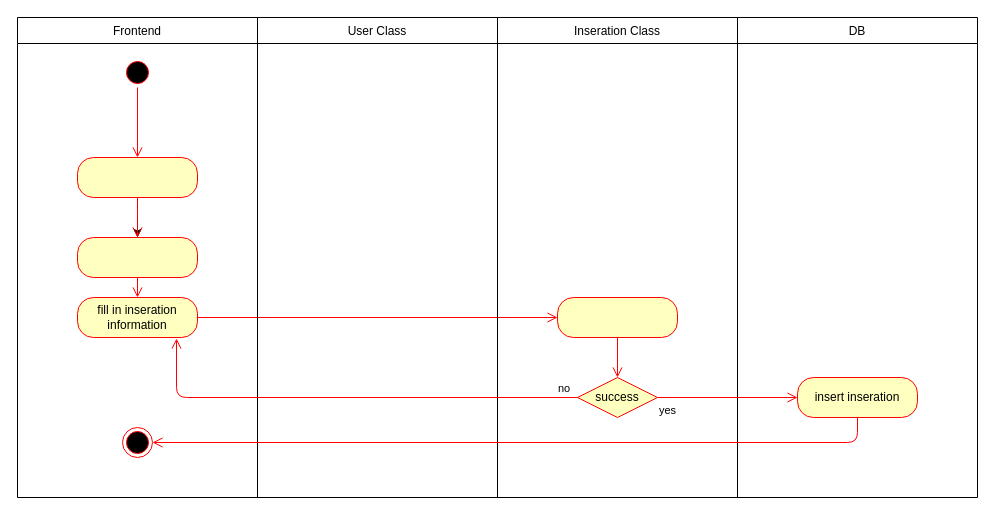
Image size: 995x515. Some labels were removed from this diagram. Here are the shapes that lost their labels. From the top down, the centre of each, then its label:
At point 137,177: "login user".
At point 137,257: "opne insert product page".
At point 617,317: "validate inseration".
